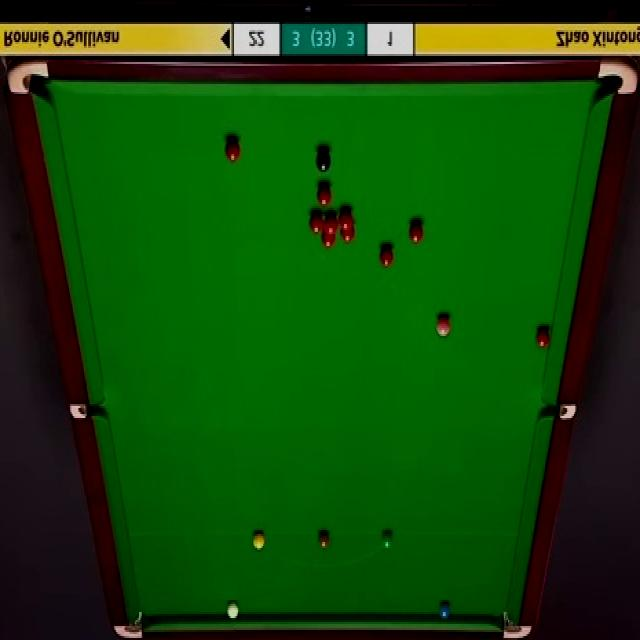pocket: (7, 58, 50, 97), (595, 60, 636, 97), (500, 608, 534, 640), (111, 611, 145, 640), (68, 403, 102, 423), (541, 403, 575, 422)
